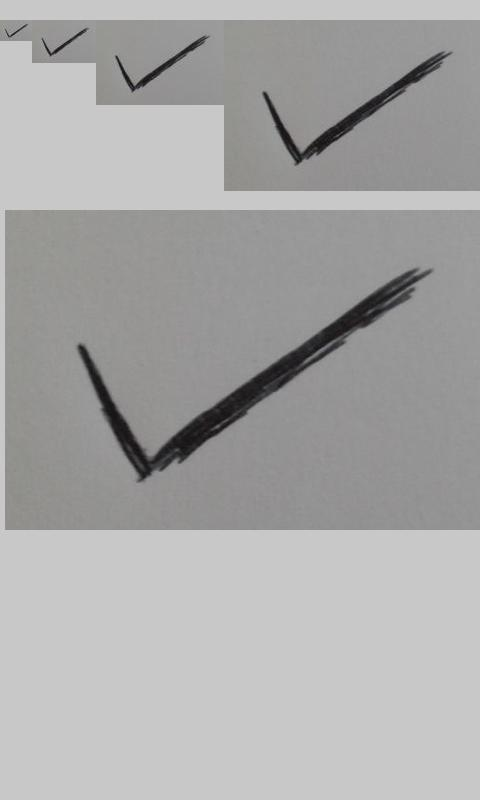check_box: (78, 267, 417, 480), (262, 51, 443, 167), (115, 35, 206, 91), (41, 28, 86, 56), (5, 24, 28, 38)
